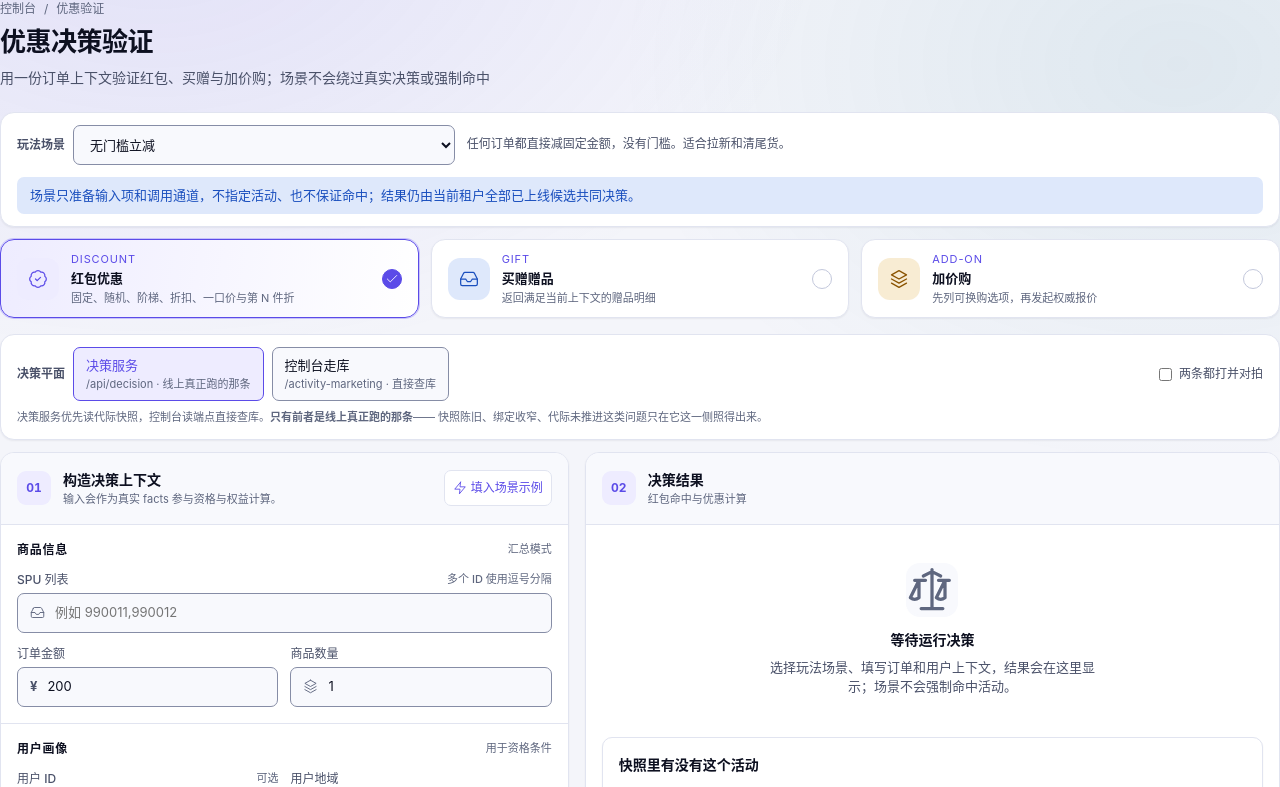
Test: ValidateView › 加价购没有候选时展示正常 empty 结果，而不是请求错误
Select "加价购" in the dropdown with test id "v-scenario" at (264,144), box left=73, top=124, right=455, bottom=164
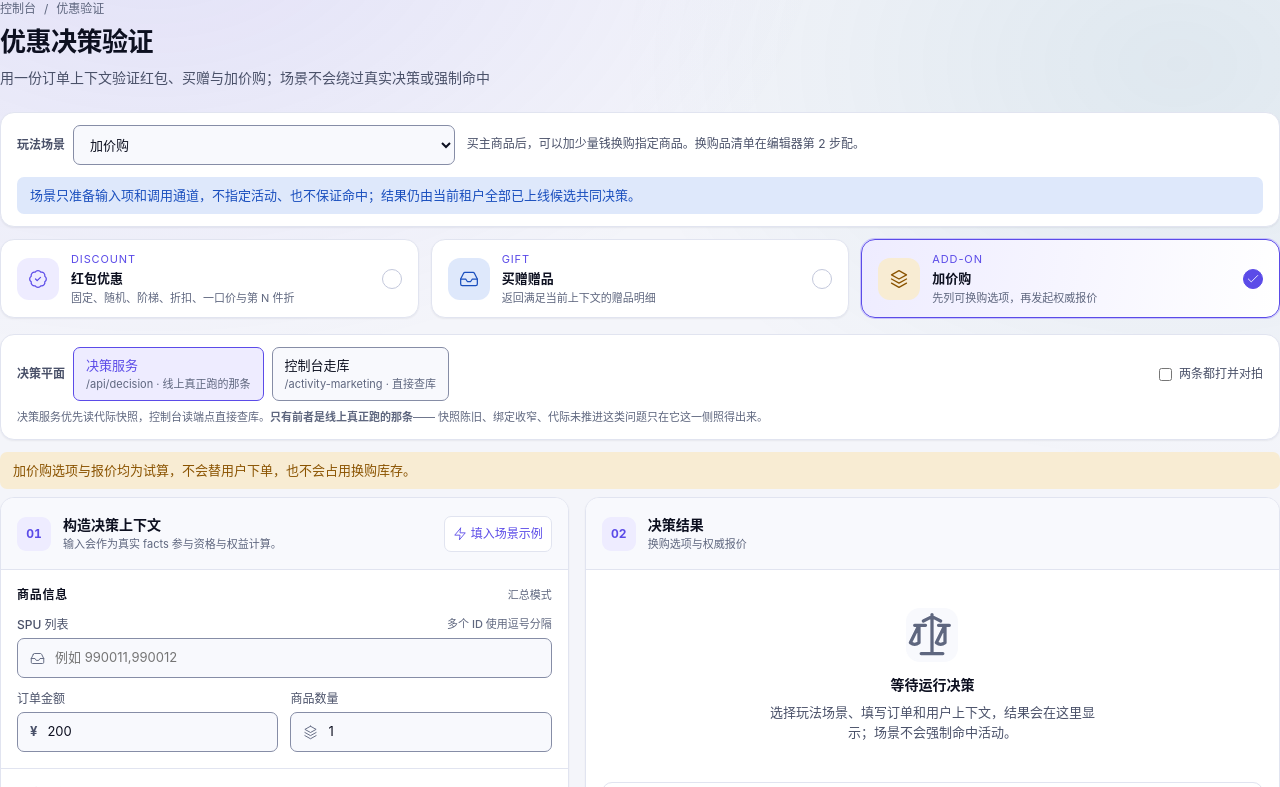
Type "990011" into the field with test id "v-spu" at (296,658), box left=53, top=647, right=539, bottom=669
(page scrolled)
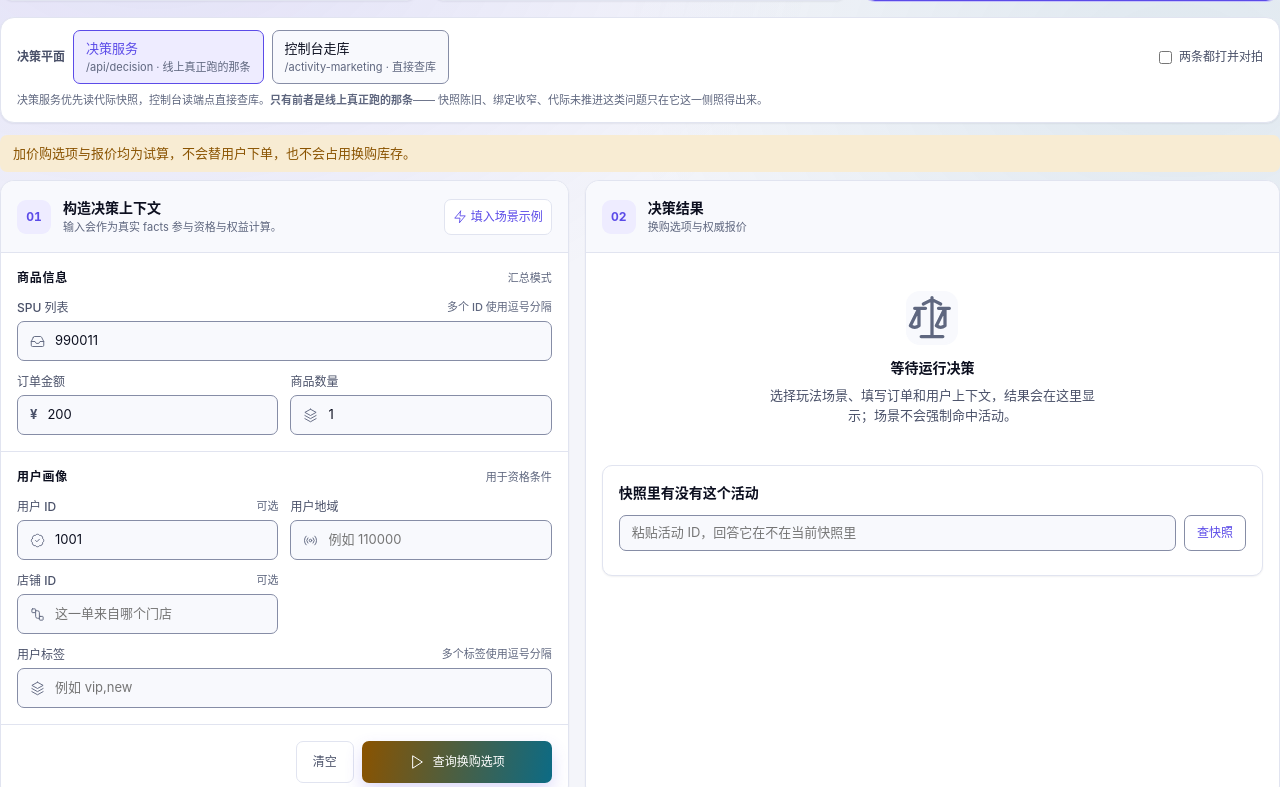
Click the button with test id "v-addon-options" at (457,762), box left=362, top=741, right=552, bottom=783
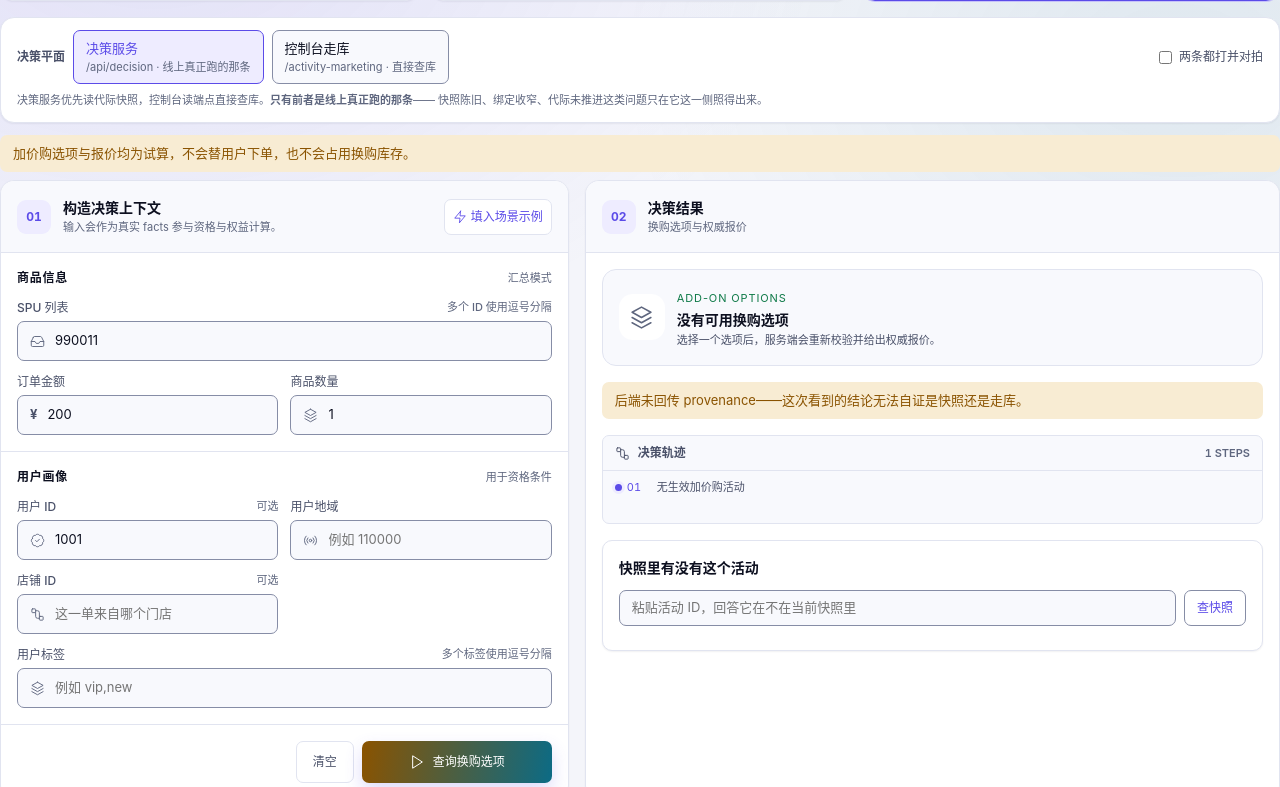
Now the element with test id "validate-result" shows "没有可用换购选项", box left=677, top=311, right=789, bottom=328
Now the text "无生效加价购活动" is shown, box left=657, top=480, right=745, bottom=494
